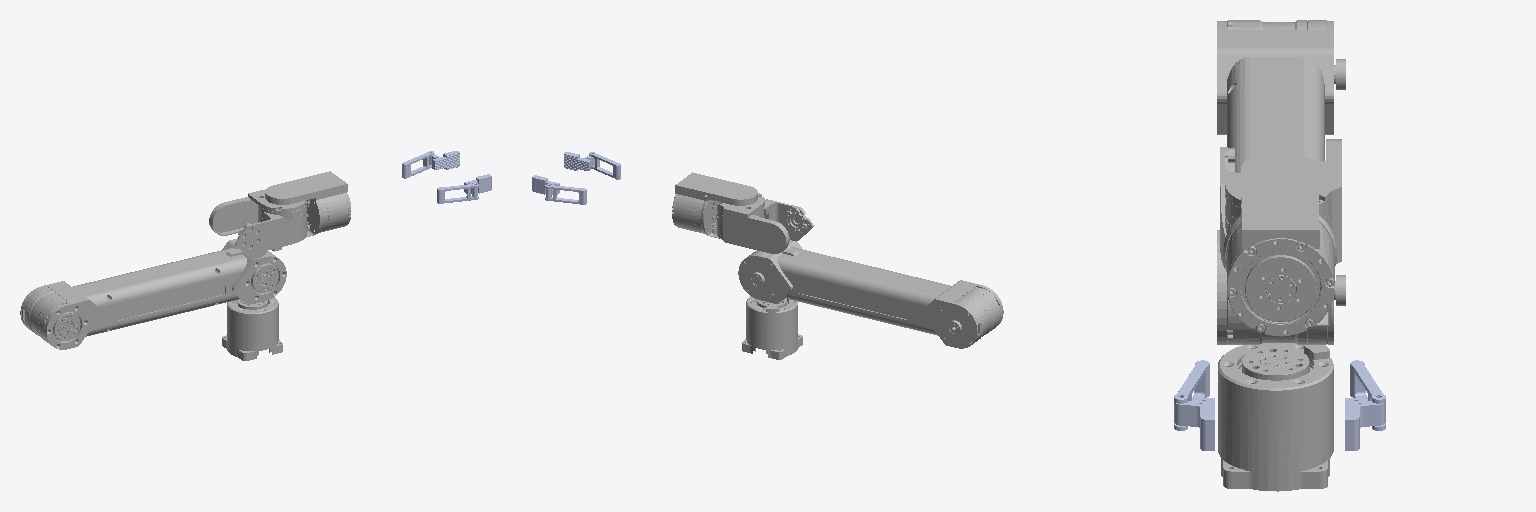
URDF robot description (airbot_play_inspire_eg2_4c_v2_gazebo):
<?xml version="1.0" encoding="utf-8" ?>
<!-- This URDF was automatically created by SolidWorks to URDF Exporter! Originally created by [author] ([email redacted]) 
     Commit Version: 1.6.0-4-g7f85cfe  Build Version: 1.6.7995.38578
     For more information, please see http://wiki.ros.org/sw_urdf_exporter -->
<robot name="airbot_play_inspire_eg2_4c_v2_gazebo">
    <link name="base_link">
        <inertial>
            <origin xyz="-2.9949E-05 3.0537E-05 0.027284" rpy="0 0 0" />
            <mass value="0.44071" />
            <inertia ixx="0.00017392" ixy="-3.5E-07" ixz="-5.9E-07" iyy="0.00017547" iyz="1.13E-06" izz="0.00015925" />
        </inertial>
        <visual>
            <origin xyz="0 0 0" rpy="0 0 0" />
            <geometry>
                <mesh filename="package://airbot_play_inspire_eg2_4c_v2_gazebo/meshes/base_link.STL" />
            </geometry>
            <material name="">
                <color rgba="0.75294 0.75294 0.75294 1" />
            </material>
        </visual>
        <collision>
            <origin xyz="0 0 0" rpy="0 0 0" />
            <geometry>
                <mesh filename="package://airbot_play_inspire_eg2_4c_v2_gazebo/meshes/base_link.STL" />
            </geometry>
        </collision>
    </link>
    <link name="link1">
        <inertial>
            <origin xyz="-0.00011034 -6.8411E-06 -0.023655" rpy="0 0 0" />
            <mass value="0.078163" />
            <inertia ixx="9.22E-05" ixy="-1E-08" ixz="5E-08" iyy="3.014E-05" iyz="-7.4E-07" izz="8.652E-05" />
        </inertial>
        <visual>
            <origin xyz="0 0 0" rpy="0 0 0" />
            <geometry>
                <mesh filename="package://airbot_play_inspire_eg2_4c_v2_gazebo/meshes/link1.STL" />
            </geometry>
            <material name="">
                <color rgba="0.75294 0.75294 0.75294 1" />
            </material>
        </visual>
        <collision>
            <origin xyz="0 0 0" rpy="0 0 0" />
            <geometry>
                <mesh filename="package://airbot_play_inspire_eg2_4c_v2_gazebo/meshes/link1.STL" />
            </geometry>
        </collision>
    </link>
    <joint name="joint1" type="revolute">
        <origin xyz="0 0 0.1005" rpy="0 0 0" />
        <parent link="base_link" />
        <child link="link1" />
        <axis xyz="0 0 1" />
        <limit lower="-10" upper="10" effort="100" velocity="110" />
    </joint>
    <link name="link2">
        <inertial>
            <origin xyz="0.13157 0.00062386 -0.0022903" rpy="0 0 0" />
            <mass value="1.0604" />
            <inertia ixx="0.00049116" ixy="5.47E-06" ixz="6.4E-07" iyy="0.01580055" iyz="1.04E-06" izz="0.01574902" />
        </inertial>
        <visual>
            <origin xyz="0 0 0" rpy="0 0 0" />
            <geometry>
                <mesh filename="package://airbot_play_inspire_eg2_4c_v2_gazebo/meshes/link2.STL" />
            </geometry>
            <material name="">
                <color rgba="0.75294 0.75294 0.75294 1" />
            </material>
        </visual>
        <collision>
            <origin xyz="0 0 0" rpy="0 0 0" />
            <geometry>
                <mesh filename="package://airbot_play_inspire_eg2_4c_v2_gazebo/meshes/link2.STL" />
            </geometry>
        </collision>
    </link>
    <joint name="joint2" type="revolute">
        <origin xyz="0 0 0" rpy="-1.5708 0 3.1416" />
        <parent link="link1" />
        <child link="link2" />
        <axis xyz="0 0 1" />
        <limit lower="-10" upper="10" effort="100" velocity="110" />
    </joint>
    <link name="link3">
        <inertial>
            <origin xyz="0.18065 0.0086528 0.0017767" rpy="0 0 0" />
            <mass value="0.55999" />
            <inertia ixx="0.00044245" ixy="-0.00043669" ixz="-9.35E-06" iyy="0.0052357" iyz="-9.31E-06" izz="0.0052474" />
        </inertial>
        <visual>
            <origin xyz="0 0 0" rpy="0 0 0" />
            <geometry>
                <mesh filename="package://airbot_play_inspire_eg2_4c_v2_gazebo/meshes/link3.STL" />
            </geometry>
            <material name="">
                <color rgba="0.75294 0.75294 0.75294 1" />
            </material>
        </visual>
        <collision>
            <origin xyz="0 0 0" rpy="0 0 0" />
            <geometry>
                <mesh filename="package://airbot_play_inspire_eg2_4c_v2_gazebo/meshes/link3.STL" />
            </geometry>
        </collision>
    </link>
    <joint name="joint3" type="revolute">
        <origin xyz="0.264 0 0" rpy="0 0 -2.9159" />
        <parent link="link2" />
        <child link="link3" />
        <axis xyz="0 0 1" />
        <limit lower="-10" upper="10" effort="100" velocity="110" />
    </joint>
    <link name="link4">
        <inertial>
            <origin xyz="0.054496 -0.0020302 0.0011432" rpy="0 0 0" />
            <mass value="0.34333" />
            <inertia ixx="0.00017672" ixy="2.2E-06" ixz="-1.227E-05" iyy="0.00026353" iyz="-5.14E-06" izz="0.00022296" />
        </inertial>
        <visual>
            <origin xyz="0 0 0" rpy="0 0 0" />
            <geometry>
                <mesh filename="package://airbot_play_inspire_eg2_4c_v2_gazebo/meshes/link4.STL" />
            </geometry>
            <material name="">
                <color rgba="0.75294 0.75294 0.75294 1" />
            </material>
        </visual>
        <collision>
            <origin xyz="0 0 0" rpy="0 0 0" />
            <geometry>
                <mesh filename="package://airbot_play_inspire_eg2_4c_v2_gazebo/meshes/link4.STL" />
            </geometry>
        </collision>
    </link>
    <joint name="joint4" type="revolute">
        <origin xyz="0.25137 0 -0.002" rpy="0 0 -0.22569" />
        <parent link="link3" />
        <child link="link4" />
        <axis xyz="0 0 1" />
        <limit lower="-10" upper="10" effort="100" velocity="110" />
    </joint>
    <link name="link5">
        <inertial>
            <origin xyz="-0.00042679 0.053307 0.00073106" rpy="0 0 0" />
            <mass value="0.33126" />
            <inertia ixx="0.00040201" ixy="1.6E-06" ixz="-5.07E-06" iyy="0.00042082" iyz="1.75E-06" izz="0.00036657" />
        </inertial>
        <visual>
            <origin xyz="0 0 0" rpy="0 0 0" />
            <geometry>
                <mesh filename="package://airbot_play_inspire_eg2_4c_v2_gazebo/meshes/link5.STL" />
            </geometry>
            <material name="">
                <color rgba="0.75294 0.75294 0.75294 1" />
            </material>
        </visual>
        <collision>
            <origin xyz="0 0 0" rpy="0 0 0" />
            <geometry>
                <mesh filename="package://airbot_play_inspire_eg2_4c_v2_gazebo/meshes/link5.STL" />
            </geometry>
        </collision>
    </link>
    <joint name="joint5" type="revolute">
        <origin xyz="0.06 0 0" rpy="-1.5708 -1.5708 0" />
        <parent link="link4" />
        <child link="link5" />
        <axis xyz="0 0 1" />
        <limit lower="-10" upper="10" effort="100" velocity="110" />
    </joint>
    <link name="gripper_link">
        <inertial>
            <origin xyz="-0.000179 -0.012920 0.118245" rpy="0 0 0" />
            <mass value="0.202483822224683" />
            <inertia ixx="8.72656224038094E-05" ixy="2.1157802312087E-09" ixz="4.46212258304102E-07" iyy="0.000110884338373626" iyz="3.53923491606382E-06" izz="9.50216775187288E-05" />
        </inertial>
        <visual>
            <origin xyz="0 0 0" rpy="0 0 0" />
            <geometry>
                <mesh filename="package://airbot_play_inspire_eg2_4c_v2_gazebo/meshes/gripper_link.STL" />
            </geometry>
            <material name="">
                <color rgba="0.792156862745098 0.819607843137255 0.933333333333333 1" />
            </material>
        </visual>
        <collision>
            <origin xyz="0 0 0" rpy="0 0 0" />
            <geometry>
                <mesh filename="package://airbot_play_inspire_eg2_4c_v2_gazebo/meshes/gripper_link.STL" />
            </geometry>
        </collision>
    </link>
    <joint name="joint6" type="revolute">
        <origin xyz="0 0 0" rpy="-1.5708 0 0" />
        <parent link="link5" />
        <child link="gripper_link" />
        <axis xyz="0 0 1" />
        <limit lower="-10" upper="10" effort="100" velocity="1000" />
    </joint>
    <link name="gripper_link10">
        <inertial>
            <origin xyz="0.0162376775855017 0.00170828143838967 1.60704782814491E-14" rpy="0 0 0" />
            <mass value="0.00248574193257273" />
            <inertia ixx="1.1187321281772E-07" ixy="-6.68088965340704E-19" ixz="-1.14085928959275E-18" iyy="6.84359115875508E-07" iyz="-3.99246934174549E-19" izz="5.89072994948579E-07" />
        </inertial>
        <visual>
            <origin xyz="0 0 0" rpy="0 0 0" />
            <geometry>
                <mesh filename="package://airbot_play_inspire_eg2_4c_v2_gazebo/meshes/gripper_link10.STL" />
            </geometry>
            <material name="">
                <color rgba="0.792156862745098 0.819607843137255 0.933333333333333 1" />
            </material>
        </visual>
        <collision>
            <origin xyz="0 0 0" rpy="0 0 0" />
            <geometry>
                <mesh filename="package://airbot_play_inspire_eg2_4c_v2_gazebo/meshes/gripper_link10.STL" />
            </geometry>
        </collision>
    </link>
    <joint name="joint_gripper10" type="revolute">
        <origin xyz="-0.038533 0.00036 0.18735" rpy="-1.5708 -1.304 3.1416" />
        <parent link="gripper_link" />
        <child link="gripper_link10" />
        <axis xyz="0 0 1" />
        <limit lower="-10" upper="10" effort="100" velocity="110" />
    </joint>
    <link name="gripper_link11">
        <inertial>
            <origin xyz="-0.0110043692378349 0.00972866237979003 -3.15436854414486E-09" rpy="0 0 0" />
            <mass value="0.00450681926243327" />
            <inertia ixx="1.99225999101227E-07" ixy="9.189631443366E-08" ixz="1.32669175648538E-13" iyy="5.14550853833888E-07" iyz="-4.49972931710022E-14" izz="5.32027763416069E-07" />
        </inertial>
        <visual>
            <origin xyz="0 0 0" rpy="0 0 0" />
            <geometry>
                <mesh filename="package://airbot_play_inspire_eg2_4c_v2_gazebo/meshes/gripper_link11.STL" />
            </geometry>
            <material name="">
                <color rgba="0.792156862745098 0.819607843137255 0.933333333333333 1" />
            </material>
        </visual>
        <collision>
            <origin xyz="0 0 0" rpy="0 0 0" />
            <geometry>
                <mesh filename="package://airbot_play_inspire_eg2_4c_v2_gazebo/meshes/gripper_link11.STL" />
            </geometry>
        </collision>
    </link>
    <joint name="joint_gripper11" type="revolute">
        <origin xyz="0.041998 -0.00037577 0" rpy="0 0 2.8658" />
        <parent link="gripper_link10" />
        <child link="gripper_link11" />
        <axis xyz="0 0 1" />
        <limit lower="-10" upper="10" effort="100" velocity="110" />
    </joint>
    <link name="gripper_link20">
        <inertial>
            <origin xyz="0.0160458916846533 0.00170815882510347 -1.61815005839117E-14" rpy="0 0 0" />
            <mass value="0.0024857419325728" />
            <inertia ixx="1.11873212817726E-07" ixy="6.5445041140093E-19" ixz="1.13838047913434E-18" iyy="6.84359115875493E-07" iyz="-3.98790262211301E-19" izz="5.8907299494856E-07" />
        </inertial>
        <visual>
            <origin xyz="0 0 0" rpy="0 0 0" />
            <geometry>
                <mesh filename="package://airbot_play_inspire_eg2_4c_v2_gazebo/meshes/gripper_link20.STL" />
            </geometry>
            <material name="">
                <color rgba="0.792156862745098 0.819607843137255 0.933333333333333 1" />
            </material>
        </visual>
        <collision>
            <origin xyz="0 0 0" rpy="0 0 0" />
            <geometry>
                <mesh filename="package://airbot_play_inspire_eg2_4c_v2_gazebo/meshes/gripper_link20.STL" />
            </geometry>
        </collision>
    </link>
    <joint name="joint_gripper20" type="revolute">
        <origin xyz="0.041464 0.00036 0.18664" rpy="1.5708 -1.304 0" />
        <parent link="gripper_link" />
        <child link="gripper_link20" />
        <axis xyz="0 0 1" />
        <limit lower="-10" upper="10" effort="100" velocity="110" />
    </joint>
    <link name="gripper_link21">
        <inertial>
            <origin xyz="-0.0117059608928904 -0.0140030860218414 3.11077152925776E-09" rpy="0 0 0" />
            <mass value="0.00450681912675432" />
            <inertia ixx="2.02615006762524E-07" ixy="-9.74786442765277E-08" ixz="-1.30502494006714E-13" iyy="5.11161832405036E-07" iyz="-4.71432886532517E-14" izz="5.32027750665231E-07" />
        </inertial>
        <visual>
            <origin xyz="0 0 0" rpy="0 0 0" />
            <geometry>
                <mesh filename="package://airbot_play_inspire_eg2_4c_v2_gazebo/meshes/gripper_link21.STL" />
            </geometry>
            <material name="">
                <color rgba="0.792156862745098 0.819607843137255 0.933333333333333 1" />
            </material>
        </visual>
        <collision>
            <origin xyz="0 0 0" rpy="0 0 0" />
            <geometry>
                <mesh filename="package://airbot_play_inspire_eg2_4c_v2_gazebo/meshes/gripper_link21.STL" />
            </geometry>
        </collision>
    </link>
    <joint name="joint_gripper21" type="revolute">
        <origin xyz="0.041998 -0.00037577 0" rpy="0 0 -2.8837" />
        <parent link="gripper_link20" />
        <child link="gripper_link21" />
        <axis xyz="0 0 1" />
        <limit lower="-10" upper="10" effort="100" velocity="110" />
    </joint>
    <link name="custom_end_link">
        <inertial>
            <origin xyz="0 0 0" rpy="0 0 0" />
            <mass value="1E-15" />
            <inertia ixx="1E-11" ixy="1E-15" ixz="1E-15" iyy="1E-11" iyz="1E-15" izz="1E-11" />
        </inertial>
    </link>
    <joint name="joint_custom_end" type="fixed">
        <origin xyz="0 0 0.255" rpy="1.5708 -1.5708 0" />
        <parent link="gripper_link" />
        <child link="custom_end_link" />
    </joint>
    <transmission name="trans_joint1">
        <type>transmission_interface/SimpleTransmission</type>
        <joint name="joint1">
            <hardwareInterface>hardware_interface/PositionJointInterface</hardwareInterface>
        </joint>
        <actuator name="joint1_motor">
            <hardwareInterface>hardware_interface/PositionJointInterface</hardwareInterface>
            <mechanicalReduction>1</mechanicalReduction>
        </actuator>
    </transmission>
    <transmission name="trans_joint2">
        <type>transmission_interface/SimpleTransmission</type>
        <joint name="joint2">
            <hardwareInterface>hardware_interface/PositionJointInterface</hardwareInterface>
        </joint>
        <actuator name="joint2_motor">
            <hardwareInterface>hardware_interface/PositionJointInterface</hardwareInterface>
            <mechanicalReduction>1</mechanicalReduction>
        </actuator>
    </transmission>
    <transmission name="trans_joint3">
        <type>transmission_interface/SimpleTransmission</type>
        <joint name="joint3">
            <hardwareInterface>hardware_interface/PositionJointInterface</hardwareInterface>
        </joint>
        <actuator name="joint3_motor">
            <hardwareInterface>hardware_interface/PositionJointInterface</hardwareInterface>
            <mechanicalReduction>1</mechanicalReduction>
        </actuator>
    </transmission>
    <transmission name="trans_joint4">
        <type>transmission_interface/SimpleTransmission</type>
        <joint name="joint4">
            <hardwareInterface>hardware_interface/PositionJointInterface</hardwareInterface>
        </joint>
        <actuator name="joint4_motor">
            <hardwareInterface>hardware_interface/PositionJointInterface</hardwareInterface>
            <mechanicalReduction>1</mechanicalReduction>
        </actuator>
    </transmission>
    <transmission name="trans_joint5">
        <type>transmission_interface/SimpleTransmission</type>
        <joint name="joint5">
            <hardwareInterface>hardware_interface/PositionJointInterface</hardwareInterface>
        </joint>
        <actuator name="joint5_motor">
            <hardwareInterface>hardware_interface/PositionJointInterface</hardwareInterface>
            <mechanicalReduction>1</mechanicalReduction>
        </actuator>
    </transmission>
    <transmission name="trans_joint6">
        <type>transmission_interface/SimpleTransmission</type>
        <joint name="joint6">
            <hardwareInterface>hardware_interface/PositionJointInterface</hardwareInterface>
        </joint>
        <actuator name="joint6_motor">
            <hardwareInterface>hardware_interface/PositionJointInterface</hardwareInterface>
            <mechanicalReduction>1</mechanicalReduction>
        </actuator>
    </transmission>
    <transmission name="trans_joint_gripper10">
        <type>transmission_interface/SimpleTransmission</type>
        <joint name="joint_gripper10">
            <hardwareInterface>hardware_interface/PositionJointInterface</hardwareInterface>
        </joint>
        <actuator name="joint_gripper10_motor">
            <hardwareInterface>hardware_interface/PositionJointInterface</hardwareInterface>
            <mechanicalReduction>1</mechanicalReduction>
        </actuator>
    </transmission>
    <transmission name="trans_joint_gripper11">
        <type>transmission_interface/SimpleTransmission</type>
        <joint name="joint_gripper11">
            <hardwareInterface>hardware_interface/PositionJointInterface</hardwareInterface>
        </joint>
        <actuator name="joint_gripper11_motor">
            <hardwareInterface>hardware_interface/PositionJointInterface</hardwareInterface>
            <mechanicalReduction>1</mechanicalReduction>
        </actuator>
    </transmission>
    <transmission name="trans_joint_gripper20">
        <type>transmission_interface/SimpleTransmission</type>
        <joint name="joint_gripper20">
            <hardwareInterface>hardware_interface/PositionJointInterface</hardwareInterface>
        </joint>
        <actuator name="joint_gripper20_motor">
            <hardwareInterface>hardware_interface/PositionJointInterface</hardwareInterface>
            <mechanicalReduction>1</mechanicalReduction>
        </actuator>
    </transmission>
    <transmission name="trans_joint_gripper21">
        <type>transmission_interface/SimpleTransmission</type>
        <joint name="joint_gripper21">
            <hardwareInterface>hardware_interface/PositionJointInterface</hardwareInterface>
        </joint>
        <actuator name="joint_gripper21_motor">
            <hardwareInterface>hardware_interface/PositionJointInterface</hardwareInterface>
            <mechanicalReduction>1</mechanicalReduction>
        </actuator>
    </transmission>
    <gazebo>
        <plugin name="gazebo_ros_control" filename="libgazebo_ros_control.so" >
            <robotNamespace>/</robotNamespace>
            <!-- <robotParam>/airbot_play/robot_description</robotParam> -->
        </plugin>
    </gazebo>
    <!-- Improve grasping physics -->
    <gazebo reference="gripper_link11">
      <ode>
        <kp>1000000.0</kp>
        <kd>1.0</kd>
        <mu1>100.0</mu1>
        <mu2>100.0</mu2>
        <minDepth>0.001</minDepth>
      </ode>
    </gazebo>
    <gazebo reference="gripper_link21">
      <ode>
        <kp>1000000.0</kp>
        <kd>1.0</kd>
        <mu1>100.0</mu1>
        <mu2>100.0</mu2>
        <minDepth>0.001</minDepth>
      </ode>
    </gazebo>
  <!-- Gazebo grasping plugin -->
  <gazebo>
    <gripper name="gazebo_gripper">
      <grasp_check>
        <attach_steps>1</attach_steps>    <!-- default: 20 -->
        <detach_steps>1</detach_steps>    <!-- default: 40 -->
        <min_contact_count>1</min_contact_count>
      </grasp_check>
      <gripper_link>gripper_link11</gripper_link>
      <gripper_link>gripper_link21</gripper_link>
      <palm_link>gripper_link</palm_link>
    </gripper>
  </gazebo>
  <!-- ROS base_link to UR 'Base' Coordinates transform -->
  <link name="base"/>
  <joint name="base_link-base_fixed_joint" type="fixed">
    <!-- NOTE: this rotation is only needed as long as base_link itself is
                 not corrected wrt the real robot (ie: rotated over 180
                 degrees)
      -->
    <origin rpy="0 0 0" xyz="0 0 0"/>
    <parent link="base_link"/>
    <child link="base"/>
  </joint>
  <!-- Frame coincident with all-zeros TCP on UR controller -->
  <link name="world"/>
  <joint name="world_joint" type="fixed">
    <parent link="world"/>
    <child link="base_link"/>
    <origin rpy="0.0 0.0 0.0" xyz="0.0 0.0 0.0"/>
  </joint>
</robot>

--- Facts derived from the render (not from the file) ---
Views: 3 orthographic renders of the robot side by side, from view 1: azimuth 30°, elevation 25°; view 2: azimuth 150°, elevation 25°; view 3: azimuth 270°, elevation 25°.
Robot: airbot_play_inspire_eg2_4c_v2_gazebo — 14 links, 13 joints (10 revolute, 3 fixed); root link world; default pose: every joint at zero.
Visible links, largest first — view 1: link2, link4, link5, base_link; view 2: link2, link4, link5, base_link; view 3: link2, link5, base_link, link4, gripper_link11, gripper_link21, gripper_link10, gripper_link20.
Link boxes in pixels (bbox=[...]): link2: bbox=[20, 238, 286, 349]; link4: bbox=[209, 189, 306, 259]; link5: bbox=[265, 171, 350, 236]; base_link: bbox=[222, 297, 282, 360]; link2: bbox=[738, 240, 1003, 348]; link4: bbox=[716, 193, 813, 253]; link5: bbox=[672, 172, 757, 238]; base_link: bbox=[742, 296, 802, 359]; link2: bbox=[1217, 20, 1345, 344]; link5: bbox=[1223, 152, 1336, 336]; base_link: bbox=[1218, 343, 1333, 491]; link4: bbox=[1220, 139, 1341, 267]; gripper_link11: bbox=[1345, 398, 1385, 450]; gripper_link21: bbox=[1174, 398, 1214, 450]; gripper_link10: bbox=[1350, 360, 1385, 430]; gripper_link20: bbox=[1174, 360, 1209, 430].
Size in the robot's own frame: 0.589 by 0.1096 by 0.1893 metres.
Meshes: 11 distinct files referenced, 8 mesh visuals loaded (8 binary STL); not drawn: 3 (reference not matched to a file when rendering).
